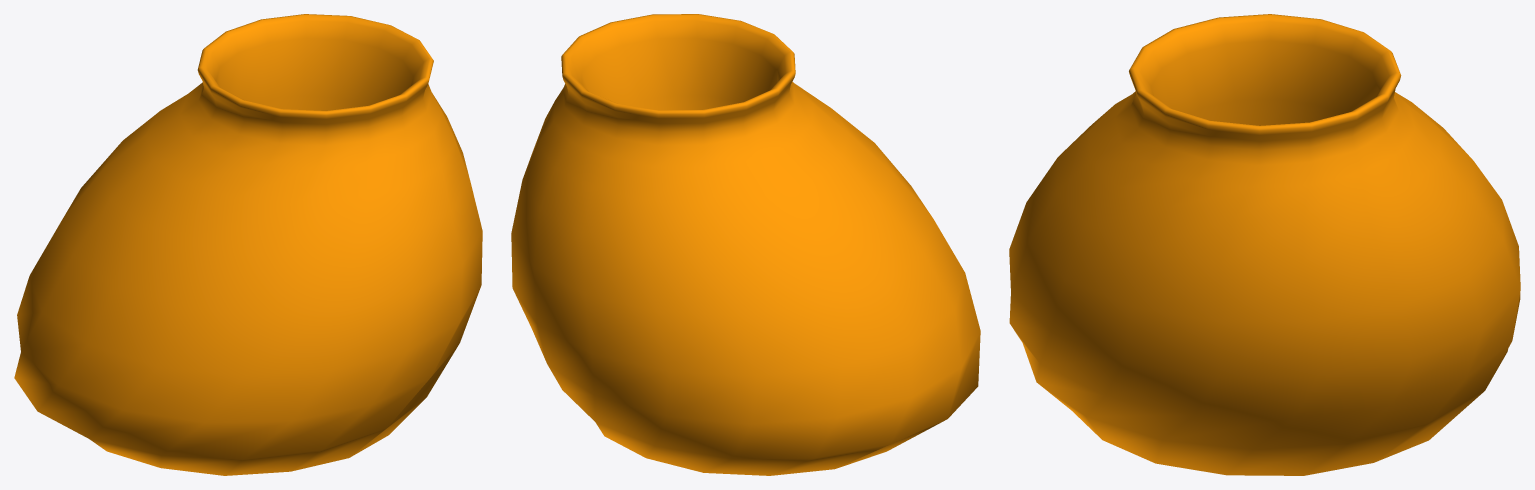
File: Inventory.fbx
3 views of the same model, side by side, from view 1: azimuth 30°, elevation 25°; view 2: azimuth 150°, elevation 25°; view 3: azimuth 270°, elevation 25° (orthographic). The views are drawn at different scales.
Visible parts, largest first — view 1: Circle; view 2: Circle; view 3: Circle.
Part boxes in pixels (box(x1,y1,x2,y2)): Circle: box(14, 14, 482, 475); Circle: box(511, 14, 980, 475); Circle: box(1009, 14, 1520, 475).
Size of the model in its own units: 201 by 151 by 189.
